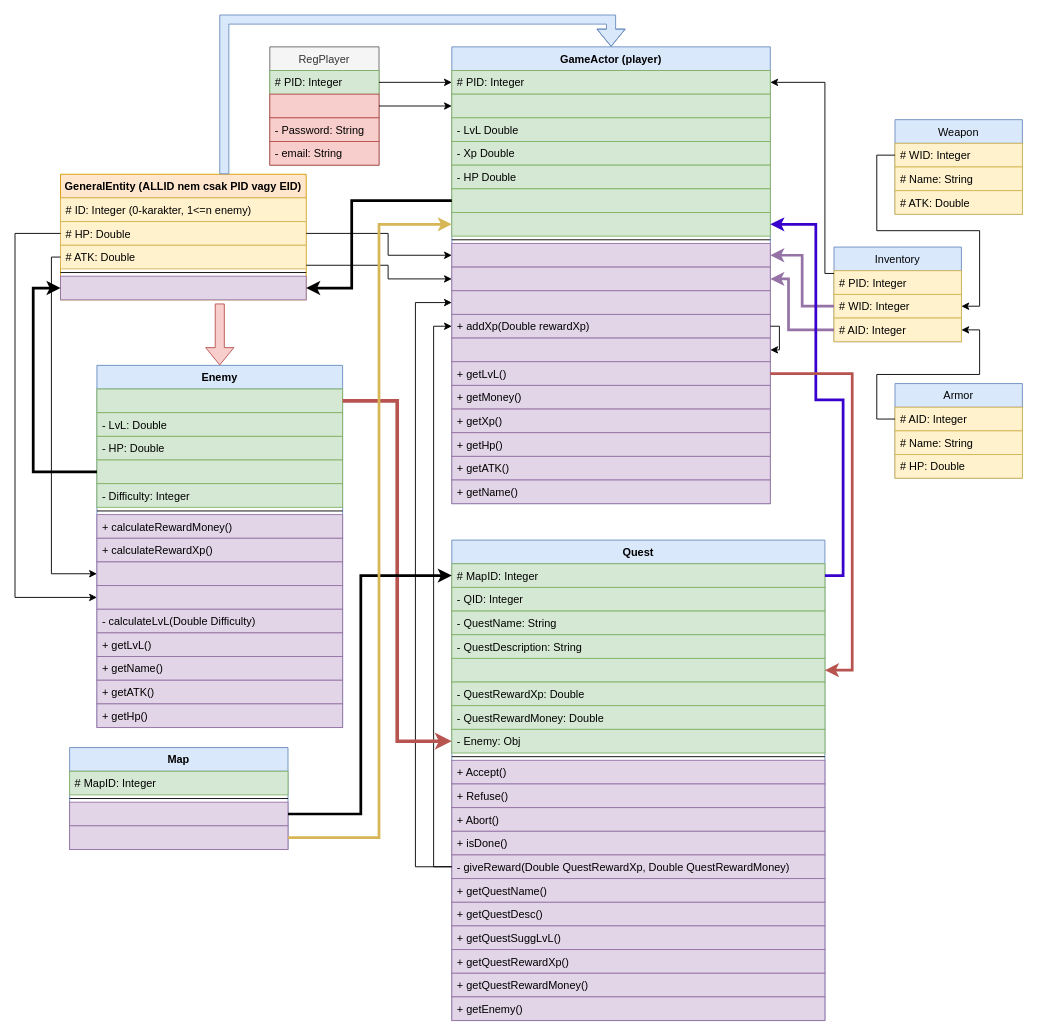
Image size: 1037x1036. Some labels were removed from this diagram. Here are the shapes that lost their labels. From the top down, the centre of each, then its label:
At [324,105]: "+ Nickname: String".
At [610,105]: "- Nickname: String".
At [610,200]: "- ATK Double".
At [610,224]: "- MapID: Integer".
At [610,255]: "- calculateHP(Double HP, Double LvL, Double AHP)".
At [183,287]: "+ dealDMG(Double ATK, Boolean Side)".
At [610,278]: "- calculateDMG(Double ATK, Double LvL, Double WATK)".
At [610,302]: "+ addMoney(Double RewardMoney)".
At [610,349]: "- calculateLvL(Double Xp)".
At [219,400]: "# EID: Integer".
At [219,471]: "- ATK: Double".
At [219,573]: "- calculateDMG(Double ATK, Double LvL)".
At [219,597]: "- calculateHP(Double HP, Double LvL)".
At [638,669]: "- QuestSuggestedLvL: Integer".
At [178,813]: "+ getMapId()".
At [178,837]: "+ Teleport(Integer MapID)".
